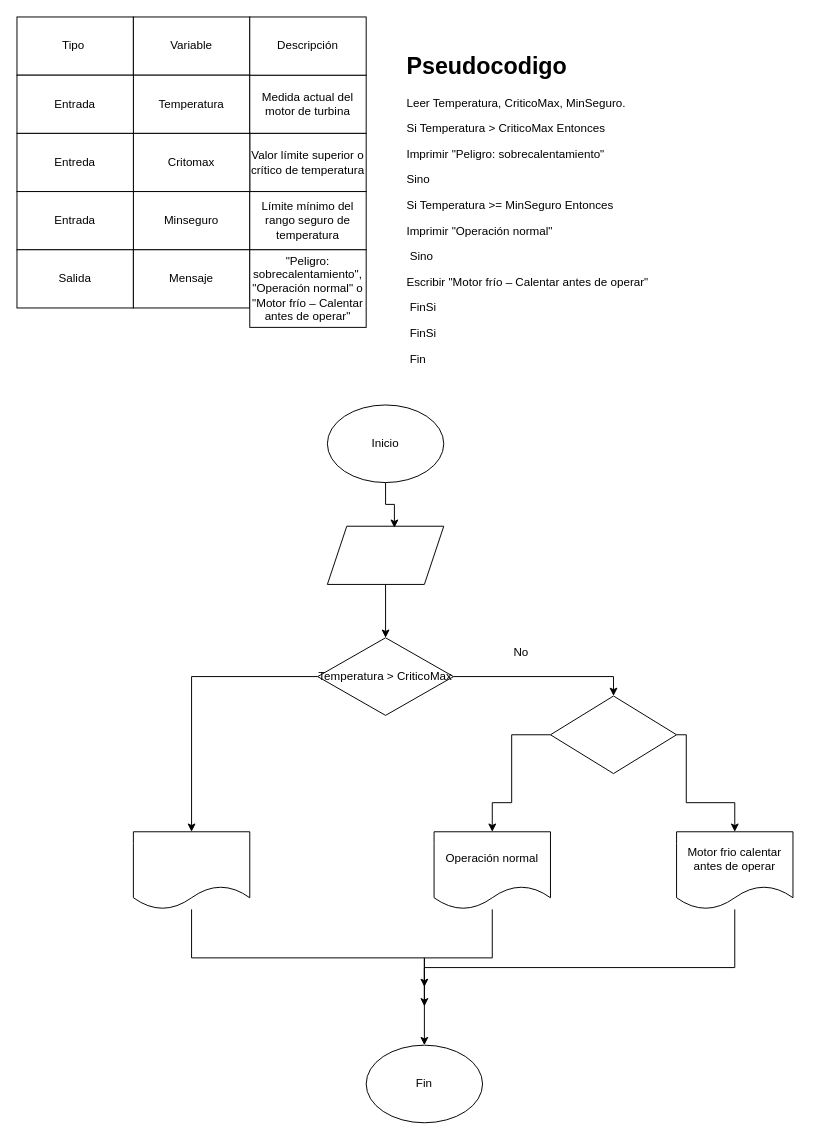
The diagram is 820 pixels wide and 1140 high, and some of its shapes have lost their labels. The shapes that lost their labels are listed below. From the top down, each one's box as (x1, y1, x2, y2) in pixels, then its label:
(326, 525, 444, 584): Temperatura, CriticoMax, MinSeguro
(550, 695, 677, 774): Temperatura >= MinSeguro
(132, 831, 250, 909): Peligro sobrecalentamiento
